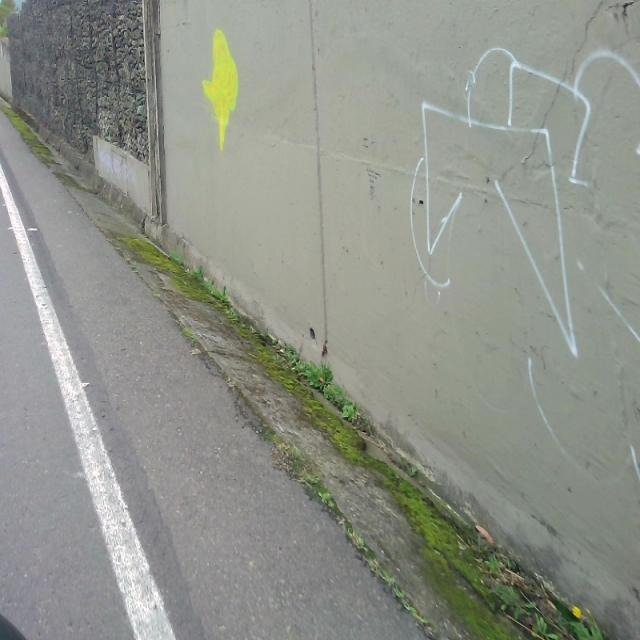DITCH: (47, 61, 638, 638), (1, 96, 606, 638), (1, 197, 638, 638)
